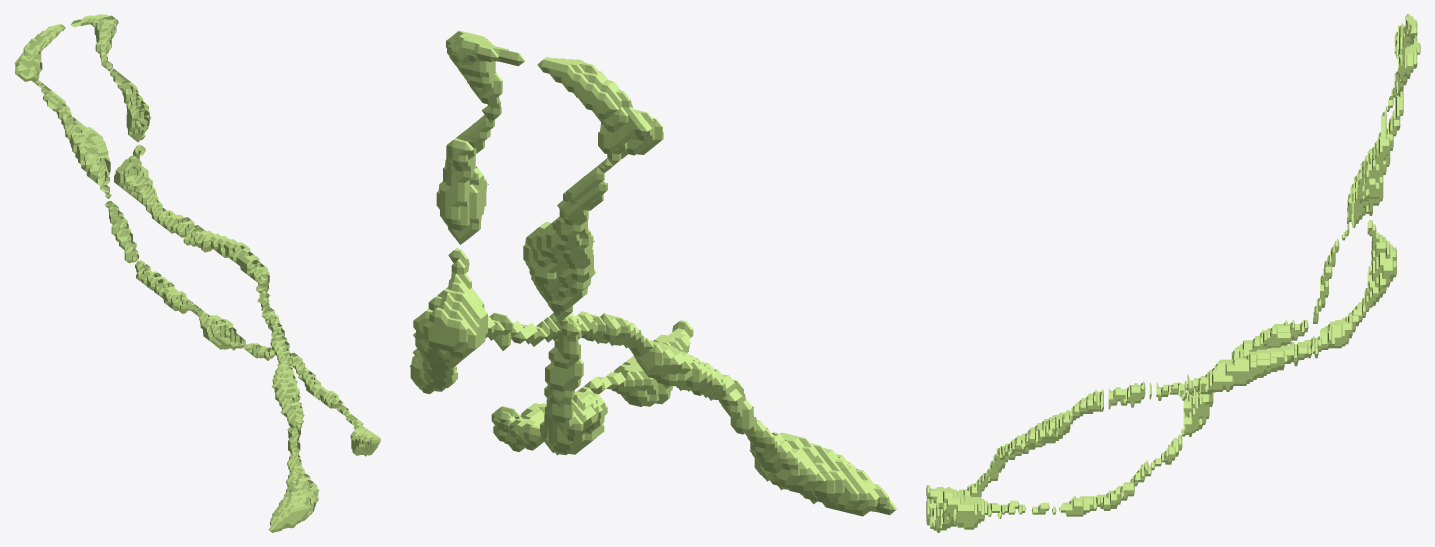
The model's file is SVV_SIAVL.gltf.
3 views of the same model, side by side, from view 1: azimuth 30°, elevation 25°; view 2: azimuth 150°, elevation 25°; view 3: azimuth 270°, elevation 25° (orthographic). The views are drawn at different scales.
Visible parts, largest first — view 1: SIAVL; view 2: SIAVL; view 3: SIAVL.
Part boxes in pixels (box(x1,y1,x2,y2)): SIAVL: box(14, 14, 380, 532); SIAVL: box(409, 30, 897, 516); SIAVL: box(926, 14, 1420, 532).
Bounding box in the file's own units: 32260 × 58908 × 55829.
